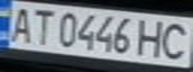0: (54, 9, 81, 48)
4: (75, 11, 100, 52), (93, 12, 118, 53)
6: (112, 13, 139, 55)
A: (3, 3, 36, 44)
C: (157, 20, 193, 61)
H: (136, 16, 169, 58)
T: (27, 6, 57, 46)
